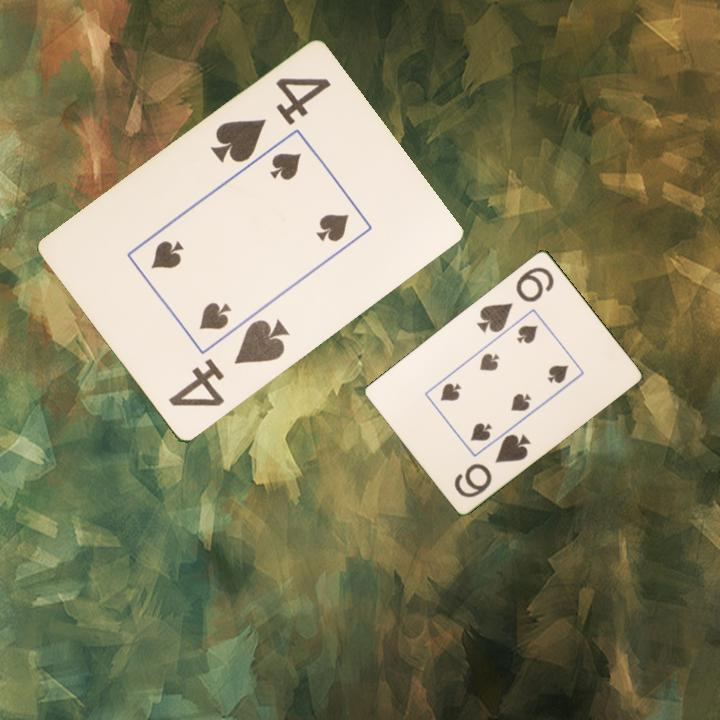4s: (164, 316, 292, 411), (206, 74, 334, 167)
6s: (473, 263, 557, 336), (450, 430, 534, 500)
